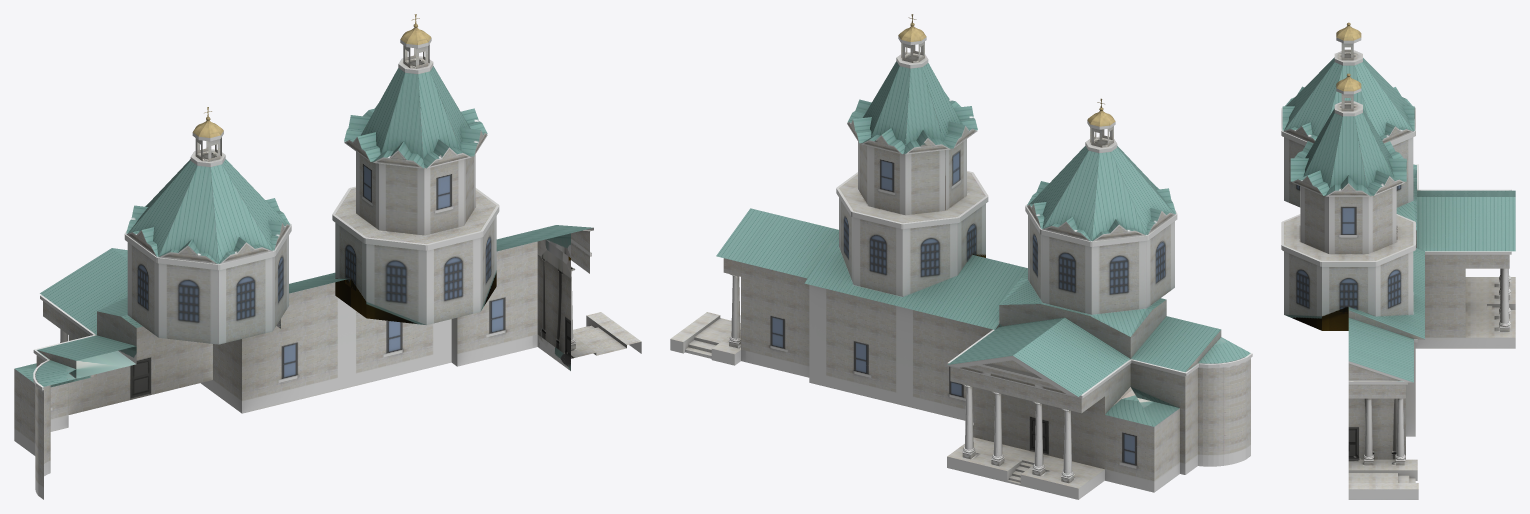
File: Svyato-Mykolaivsky-Khram_sm_h+sm_l.gltf
The picture shows the model from 3 angles, left to right: view 1: azimuth 30°, elevation 25°; view 2: azimuth 150°, elevation 25°; view 3: azimuth 270°, elevation 25°; orthographic projection. The views are drawn at different scales.
Visible parts, largest first — view 1: 8f15dff6-bc47-4a01-a8f1-bba5ed0f8045; view 2: 8f15dff6-bc47-4a01-a8f1-bba5ed0f8045; view 3: 8f15dff6-bc47-4a01-a8f1-bba5ed0f8045.
Part boxes in pixels (x1,y1,x2,y2): 8f15dff6-bc47-4a01-a8f1-bba5ed0f8045: (14, 14, 641, 499); 8f15dff6-bc47-4a01-a8f1-bba5ed0f8045: (670, 14, 1252, 499); 8f15dff6-bc47-4a01-a8f1-bba5ed0f8045: (1281, 22, 1515, 499).
Bounding box in the file's own units: 40.26 × 25.33 × 15.81.
Materials: 1 (1 with a texture image).
